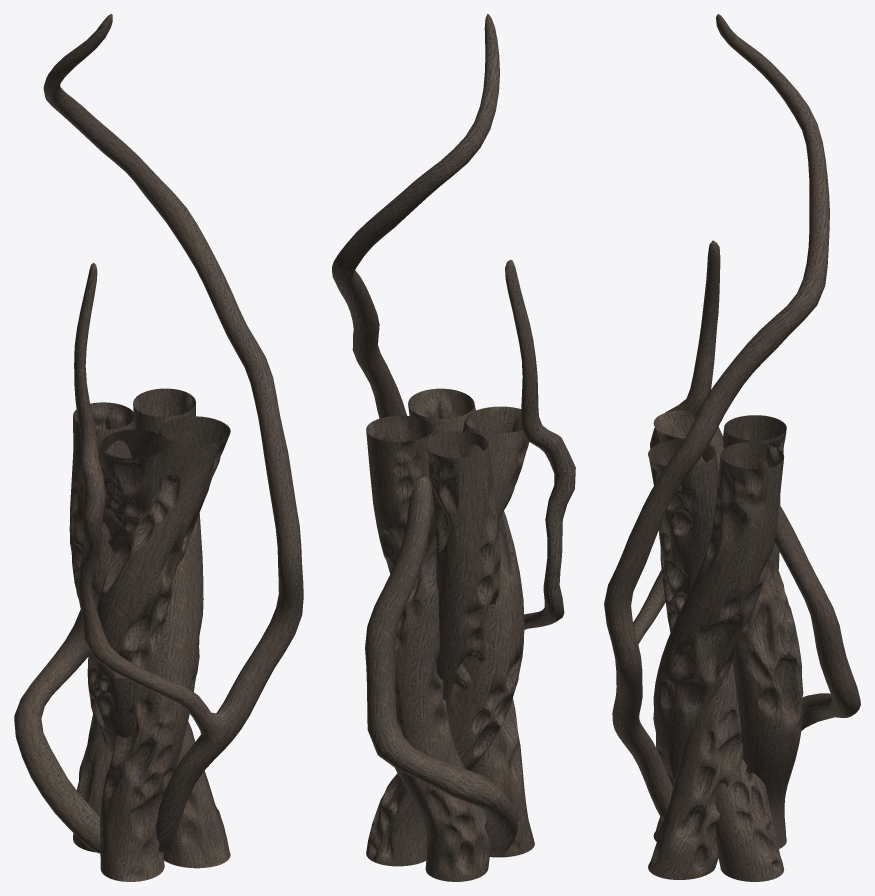
File: SM_BigTree002.fbx
3 views of the same model, side by side, from view 1: azimuth 30°, elevation 25°; view 2: azimuth 150°, elevation 25°; view 3: azimuth 270°, elevation 25° (orthographic). The views are drawn at different scales.
Visible parts, largest first — view 1: SM_BigTree002; view 2: SM_BigTree002; view 3: SM_BigTree002.
Part boxes in pixels (<box>): SM_BigTree002: <box>14,14,303,881</box>; SM_BigTree002: <box>332,14,575,881</box>; SM_BigTree002: <box>604,14,860,881</box>.
Bounding box in the file's own units: 3990 × 15907 × 4512.
